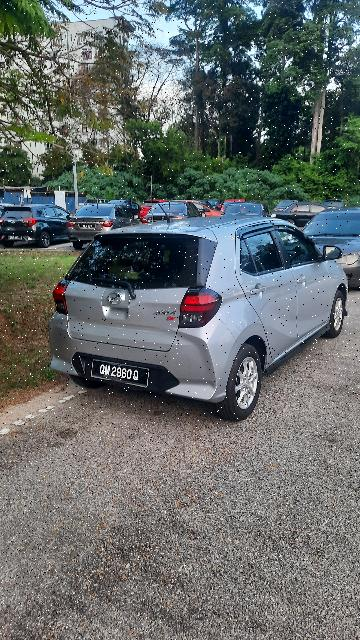License_Plate: (93, 357, 158, 393)
car: (46, 210, 360, 424)
